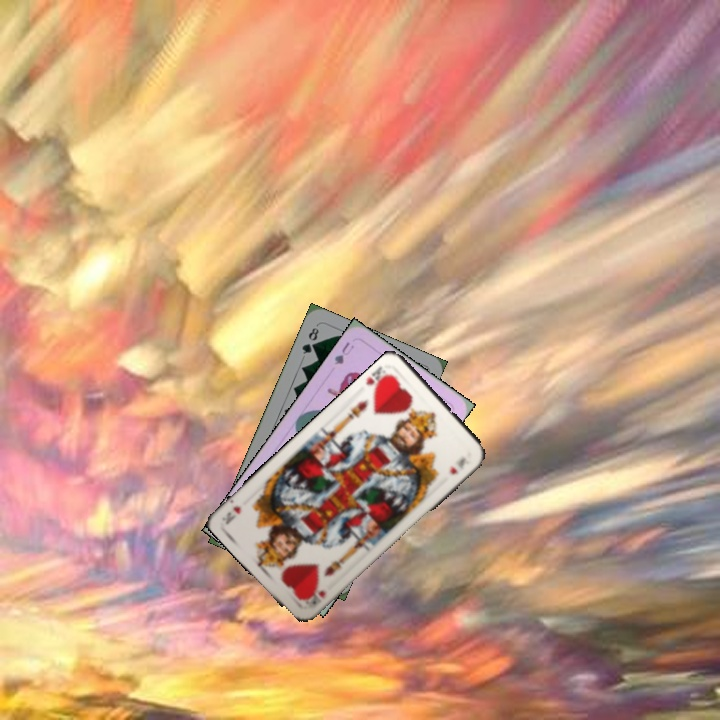G8: (298, 323, 321, 357)
GU: (330, 338, 357, 367)
HK: (362, 363, 394, 396), (302, 586, 329, 607)
